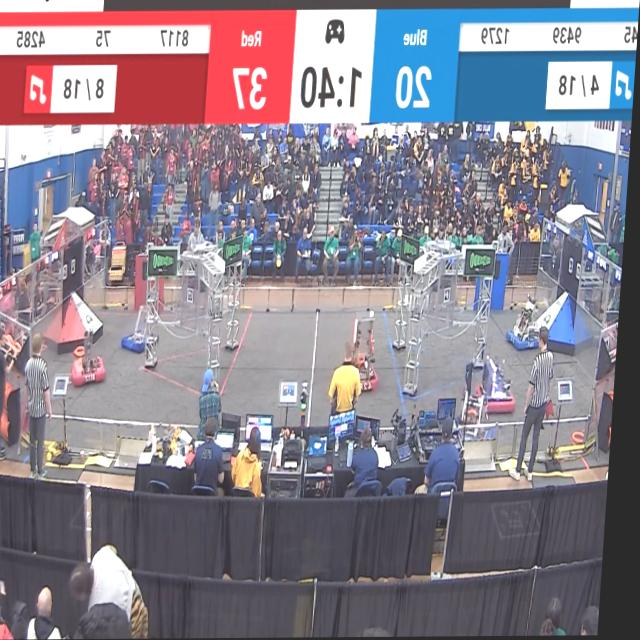Robot: (351, 312, 388, 389), (73, 326, 116, 390), (484, 352, 525, 415), (510, 296, 549, 357), (127, 290, 161, 358)
